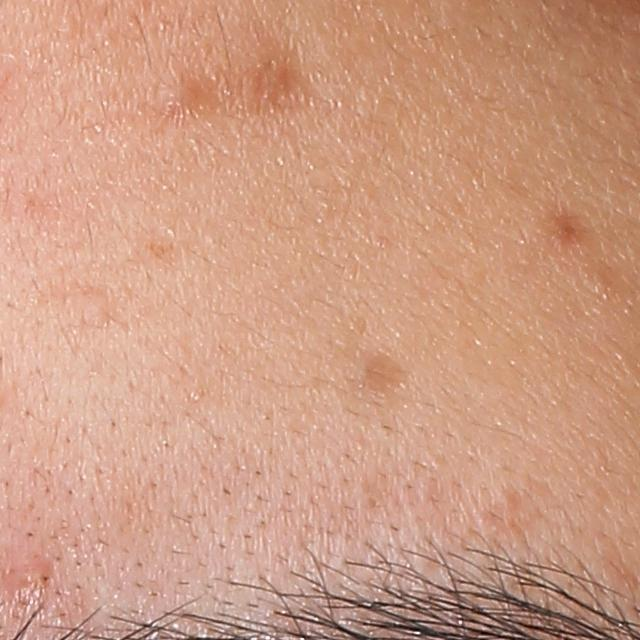comedo: (153, 80, 203, 117), (82, 289, 112, 326)
papule: (5, 551, 55, 593)
